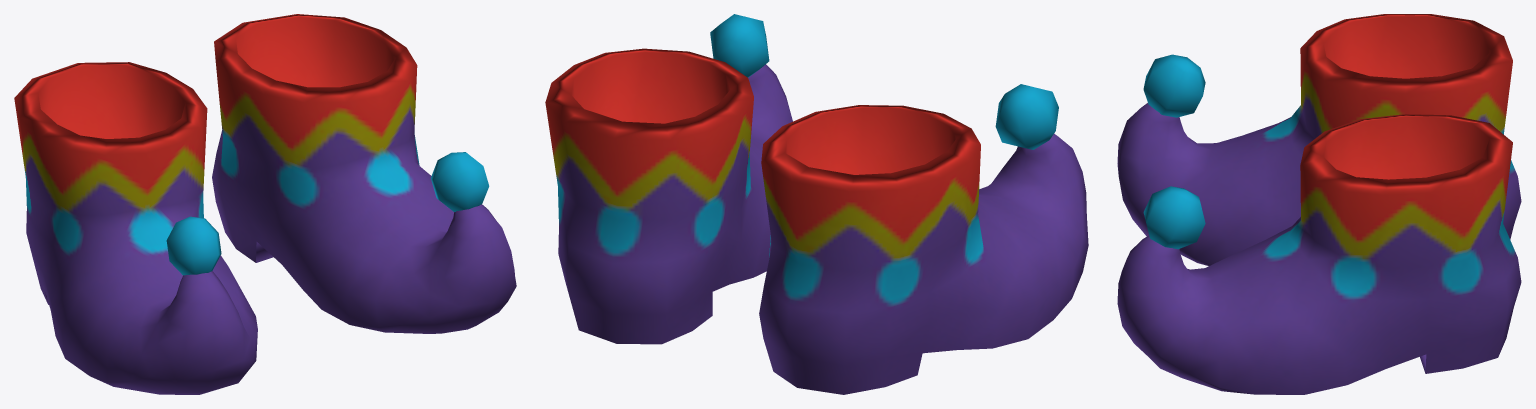
Rendered from ShoesKneeClown0.glb.
3 renders of one model, left to right at view 1: azimuth 30°, elevation 25°; view 2: azimuth 150°, elevation 25°; view 3: azimuth 270°, elevation 25°, orthographic. The views are drawn at different scales.
Visible parts, largest first — view 1: Body__mShoes; view 2: Body__mShoes; view 3: Body__mShoes.
Part boxes in pixels (box(x1,y1,x2,y2)): Body__mShoes: box(14, 14, 516, 394); Body__mShoes: box(545, 14, 1088, 394); Body__mShoes: box(1117, 14, 1521, 394).
Size of the model in its own units: 3.38 by 1.58 by 2.86.
Materials: 1 (1 with a texture image).
